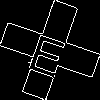E: (25, 25, 72, 79)
